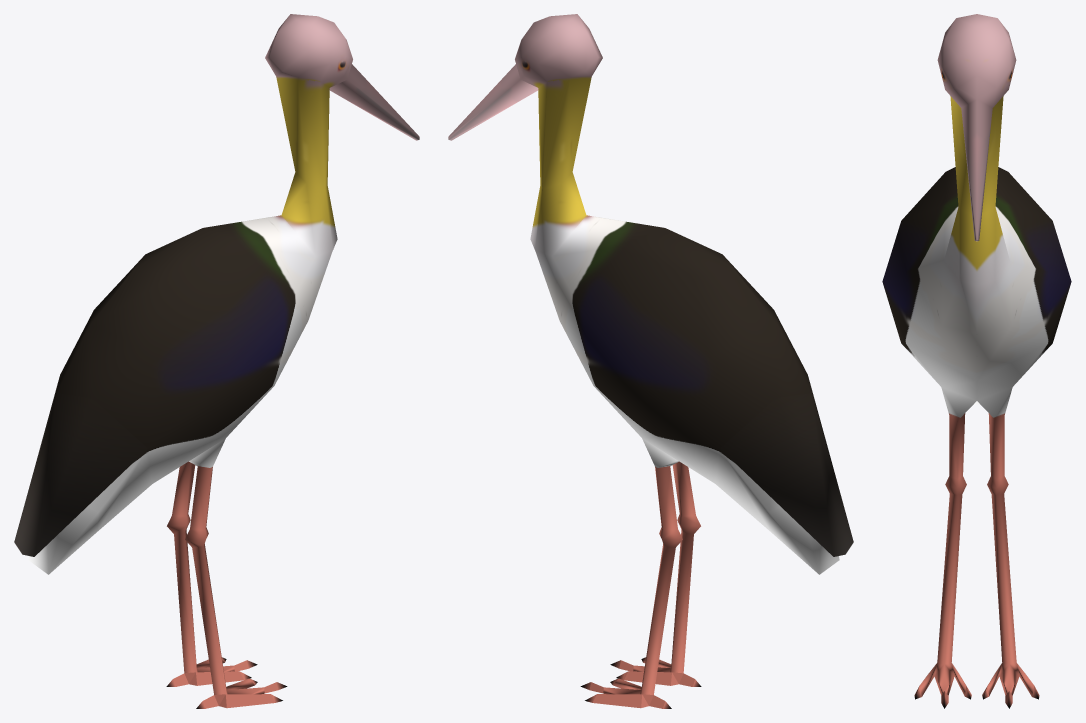
The model's file is LesserAdjutantStork.glb.
3 renders of one model, left to right at view 1: azimuth 30°, elevation 25°; view 2: azimuth 150°, elevation 25°; view 3: azimuth 270°, elevation 25°, orthographic. The views are drawn at different scales.
Visible parts, largest first — view 1: Stork; view 2: Stork; view 3: Stork.
Part boxes in pixels (x1,y1,x2,y2): Stork: (14,14,419,708); Stork: (448,14,853,708); Stork: (882,14,1071,708).
Bounding box in the file's own units: 0.9353 × 1.46 × 0.3543.
Materials: 1 (1 with a texture image).
